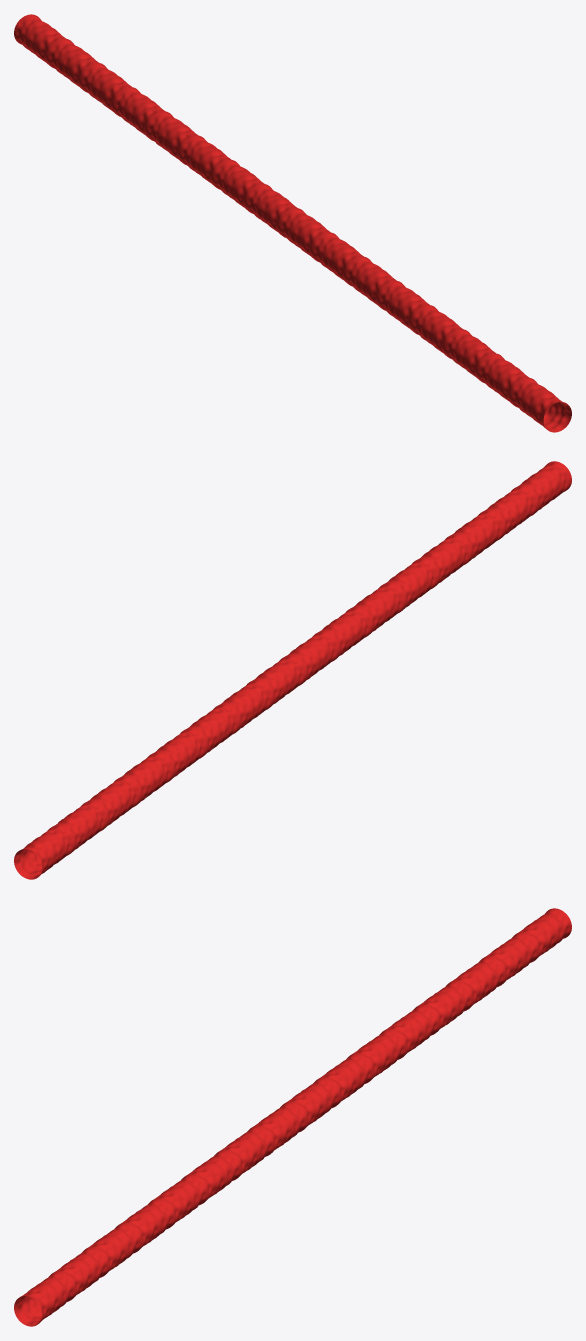
File: VeinStraight.fbx
The picture shows the model from 3 angles, top to bottom: view 1: azimuth 30°, elevation 25°; view 2: azimuth 150°, elevation 25°; view 3: azimuth 330°, elevation 25°; orthographic projection.
Parts seen in each view (by area): view 1: VeinStraight; view 2: VeinStraight; view 3: VeinStraight.
Boxes of the visible parts, x1=… form: VeinStraight: x1=14, y1=14, x2=571, y2=432; VeinStraight: x1=14, y1=461, x2=571, y2=879; VeinStraight: x1=14, y1=908, x2=571, y2=1326.
Size of the model in its own units: 1195 by 1195 by 38394.
